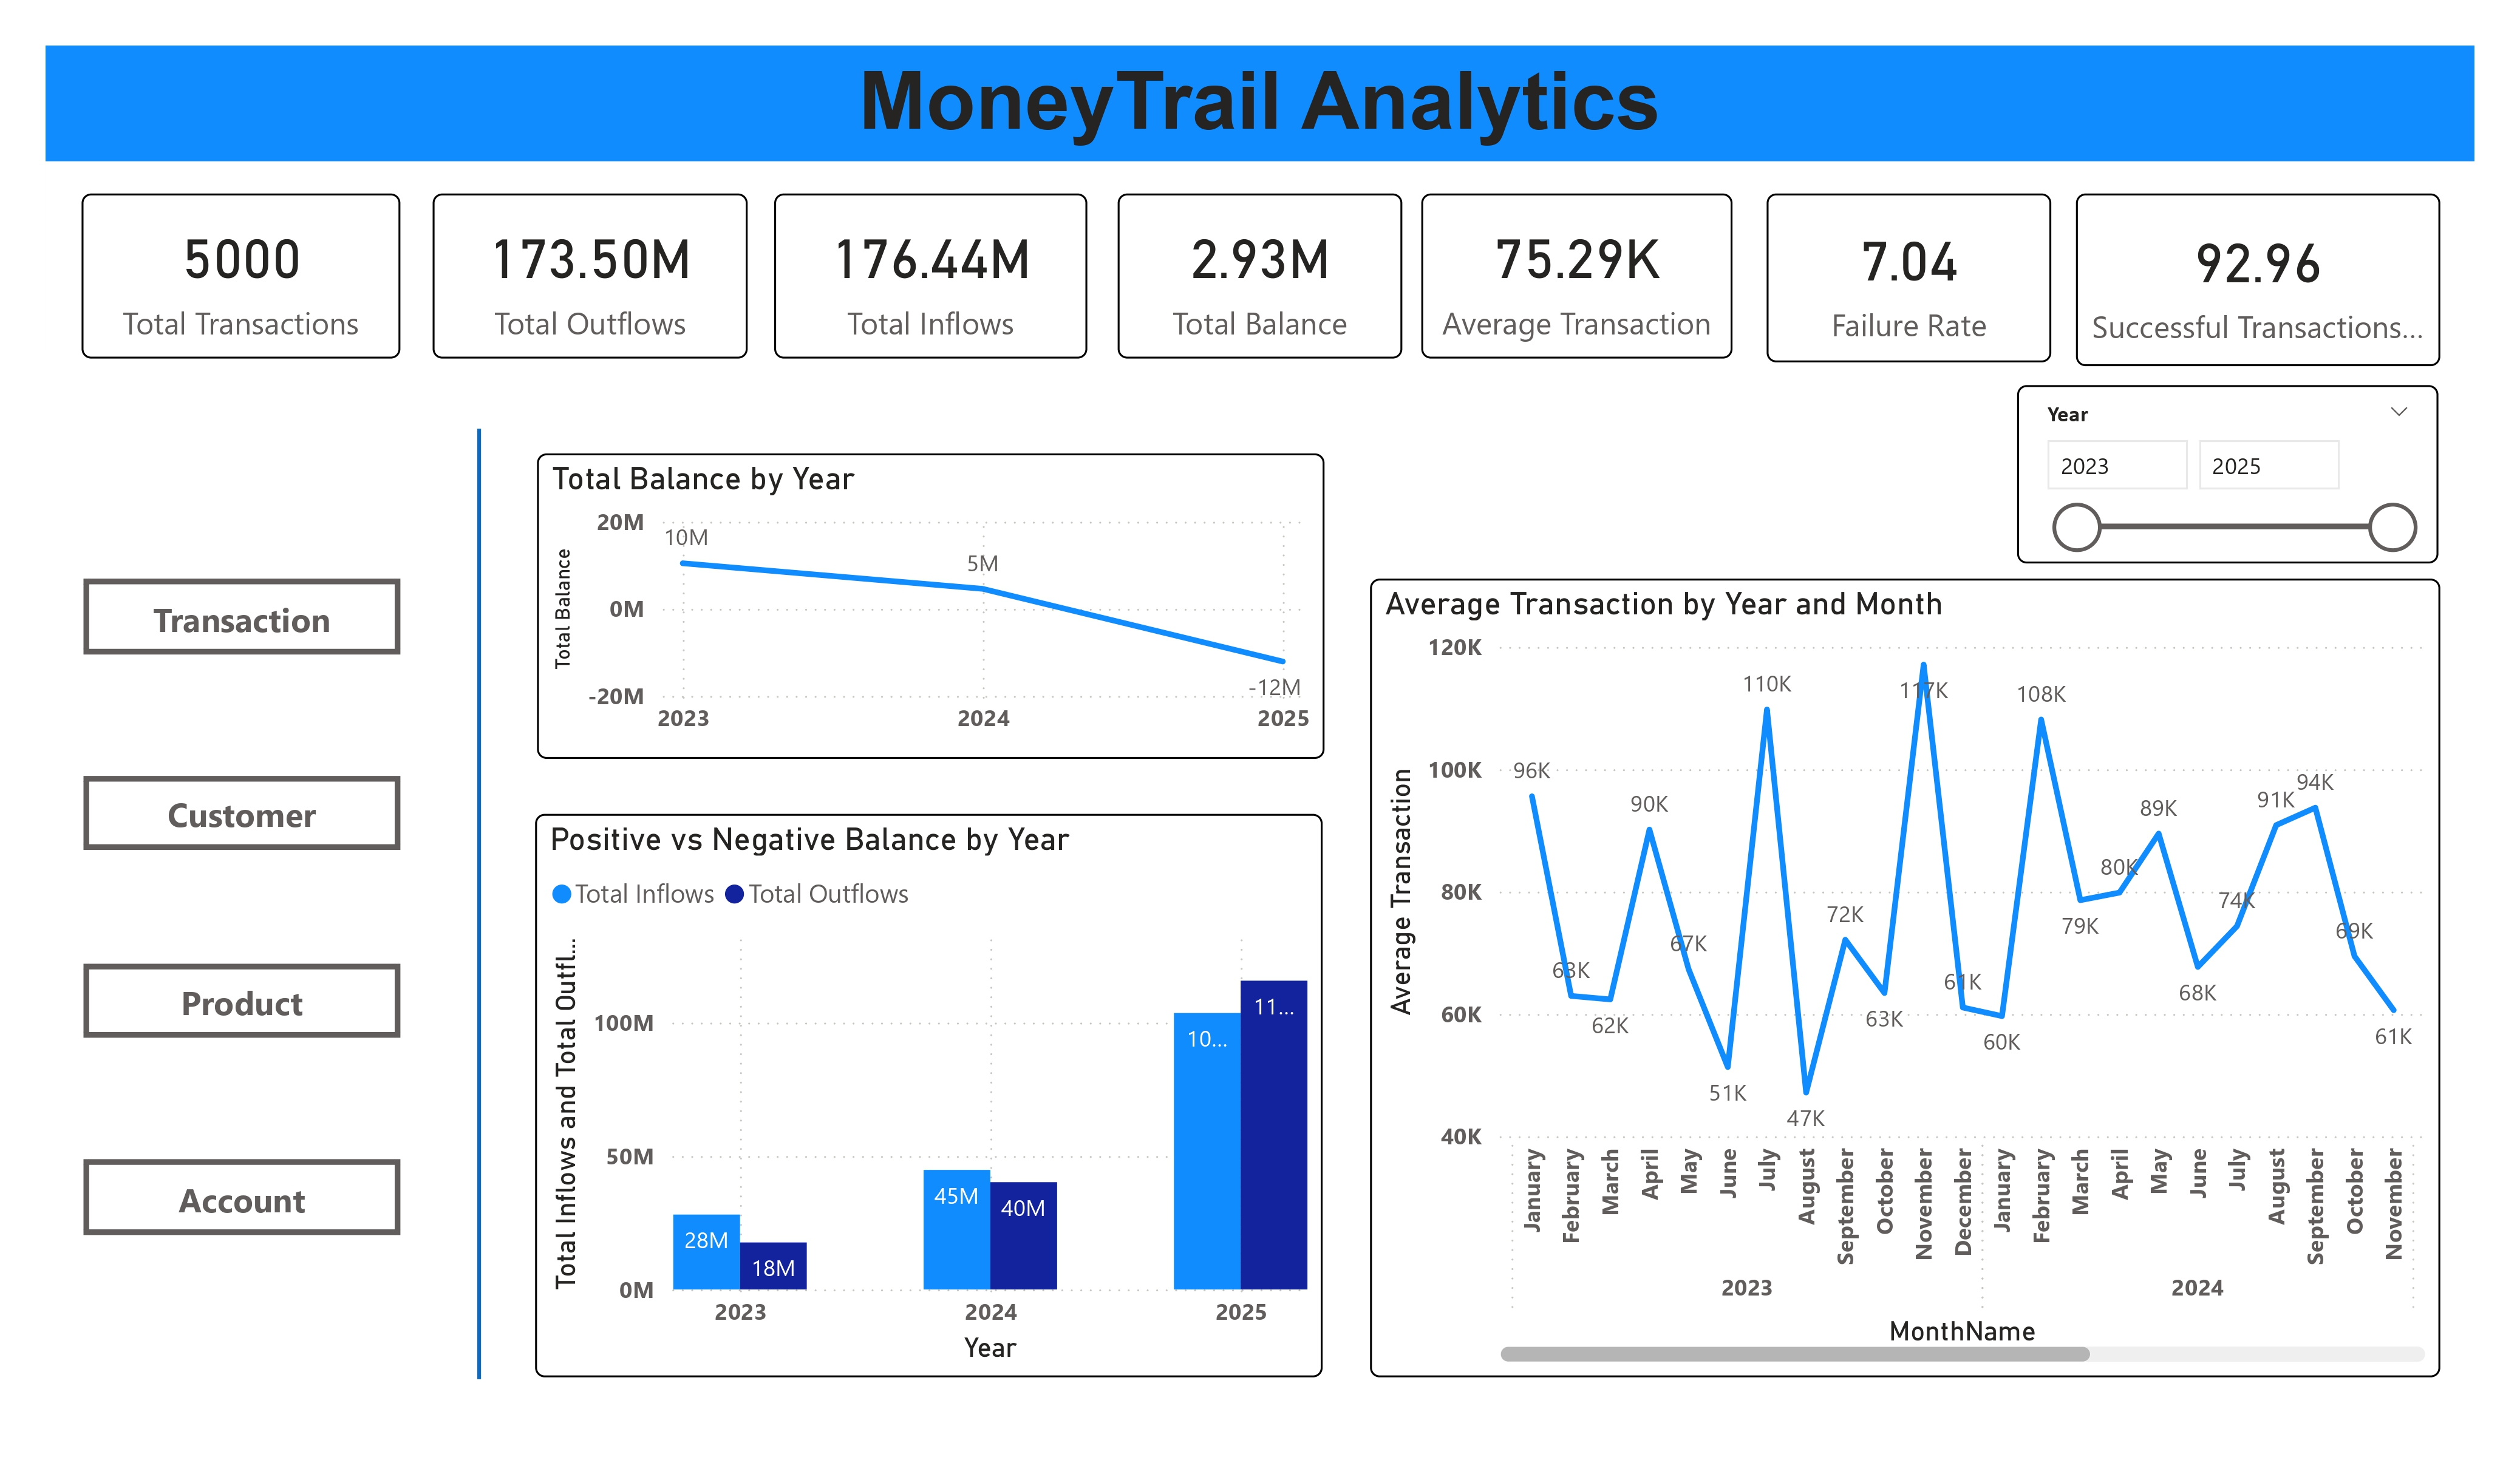

The dashboard page shown, as its layout file describes it:
{"tool":"powerbi","page":{"name":"Overview","canvas":[1280,720],"ordinal":0},"visuals":[{"type":"card","fields":{"Values":["DimAccount.Total Transactions"]},"box":[19.2,78.2,167.4,86.4],"z":0},{"type":"card","fields":{"Values":["DimAccount.Total Outflows"]},"box":[204.5,78.2,166,86.4],"z":1000},{"type":"card","fields":{"Values":["DimAccount.Total Inflows"]},"box":[384.2,78.2,164.7,86.4],"z":2000},{"type":"card","fields":{"Values":["DimAccount.Total Balance"]},"box":[565.4,78.2,149.6,86.4],"z":3000},{"type":"card","fields":{"Values":["DimAccount.Successful Transactions %"]},"box":[1070.3,78.2,192.1,90.6],"z":4000},{"type":"card","fields":{"Values":["DimAccount.Failure Rate"]},"box":[907,78.2,149.6,89.2],"z":5000},{"type":"card","fields":{"Values":["DimAccount.Average Transaction"]},"box":[724.5,78.2,164.7,86.4],"z":6000},{"type":"lineChart","title":"Total Balance by Year","fields":{"Y":["DimAccount.Total Balance"],"Category":["DimCalendar.Year"]},"box":[259.3,215.1,415.1,160.5],"z":7000},{"type":"lineChart","title":"Average Transaction by Year and Month","fields":{"Category":["DimCalendar.Year","DimCalendar.MonthName"],"Y":["DimAccount.Average Transaction"]},"box":[697.7,281.4,564,420.9],"z":8000},{"type":"textbox","box":[0,0,1280,61.4],"z":9000},{"type":"shape","box":[0,0,1280,61.4],"z":10000},{"type":"clusteredColumnChart","title":"Positive vs Negative Balance by Year","fields":{"Category":["DimCalendar.Year"],"Y":["DimAccount.Total Inflows","DimAccount.Total Outflows"]},"box":[258.1,404.7,415.1,297.7],"z":11000},{"type":"textbox","box":[0,0,1280,61.4],"z":12000},{"type":"shape","box":[218.6,202.3,19.8,501.2],"z":13000},{"type":"actionButton","box":[19.8,384.9,167.4,39.5],"z":14000},{"type":"actionButton","box":[19.8,281.4,167.4,39.5],"z":15000},{"type":"actionButton","box":[19.8,483.7,167.4,39.5],"z":16000},{"type":"actionButton","box":[19.8,587.2,167.4,39.5],"z":17000},{"type":"slicer","fields":{"Values":["DimCalendar.Year"]},"box":[1038.8,179.4,222.6,93.1],"z":18000}]}

Visuals, with their boxes on the page's 1280x720 design canvas (x1, y1, x2, y2). These are canvas units, not pixel positions in the 2520x1457 screenshot, which may show the page scaled, cropped or inside an application window:
card - DimAccount.Total Transactions: x1=19 y1=78 x2=187 y2=165
card - DimAccount.Total Outflows: x1=204 y1=78 x2=370 y2=165
card - DimAccount.Total Inflows: x1=384 y1=78 x2=549 y2=165
card - DimAccount.Total Balance: x1=565 y1=78 x2=715 y2=165
card - DimAccount.Successful Transactions %: x1=1070 y1=78 x2=1262 y2=169
card - DimAccount.Failure Rate: x1=907 y1=78 x2=1057 y2=167
card - DimAccount.Average Transaction: x1=724 y1=78 x2=889 y2=165
"Total Balance by Year" lineChart: x1=259 y1=215 x2=674 y2=376
"Average Transaction by Year and Month" lineChart: x1=698 y1=281 x2=1262 y2=702
textbox: x1=0 y1=0 x2=1280 y2=61
shape: x1=0 y1=0 x2=1280 y2=61
"Positive vs Negative Balance by Year" clusteredColumnChart: x1=258 y1=405 x2=673 y2=702
textbox: x1=0 y1=0 x2=1280 y2=61
shape: x1=219 y1=202 x2=238 y2=704
actionButton: x1=20 y1=385 x2=187 y2=424
actionButton: x1=20 y1=281 x2=187 y2=321
actionButton: x1=20 y1=484 x2=187 y2=523
actionButton: x1=20 y1=587 x2=187 y2=627
slicer - DimCalendar.Year: x1=1039 y1=179 x2=1261 y2=272
